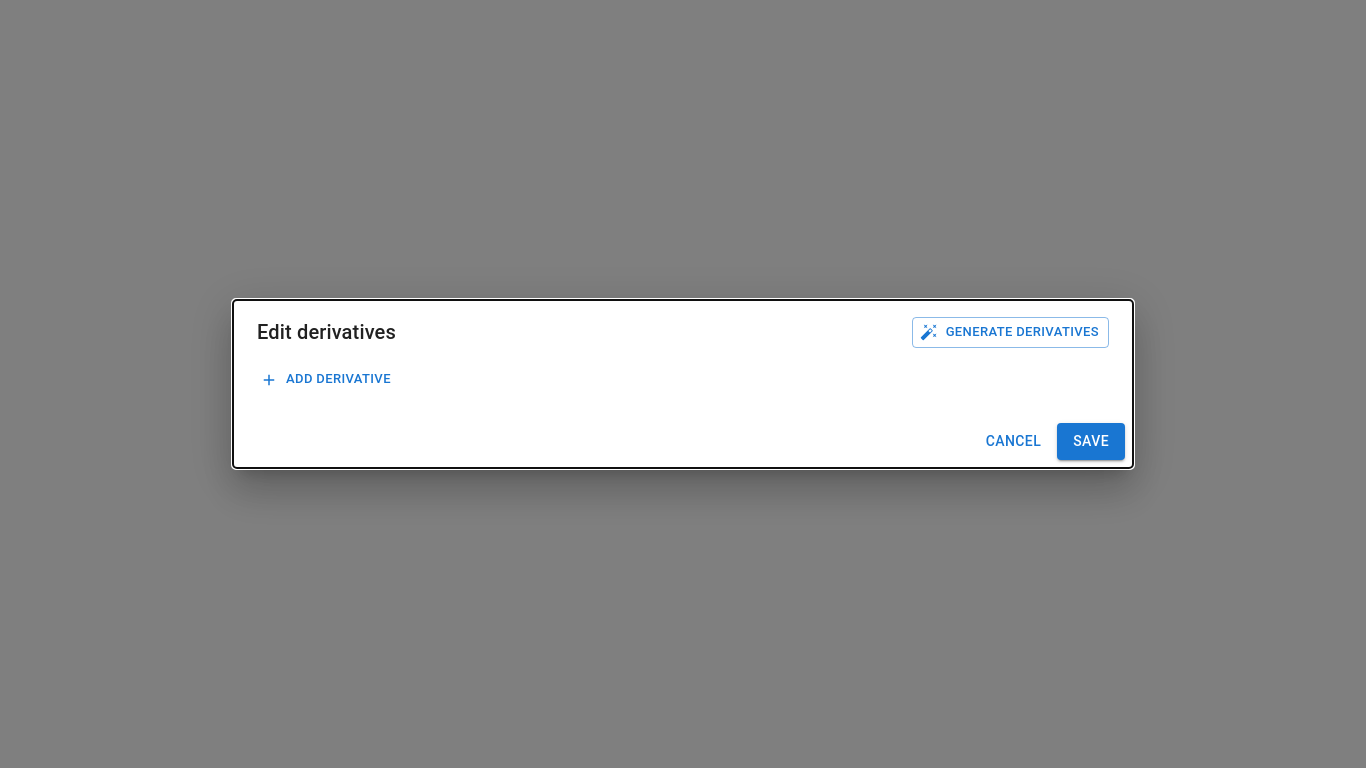
Test: DerivativeEditDialog › renders preview errors
Click the button "Generate derivatives" at (1010, 332), box top-left (912, 317), bottom-right (1109, 348)
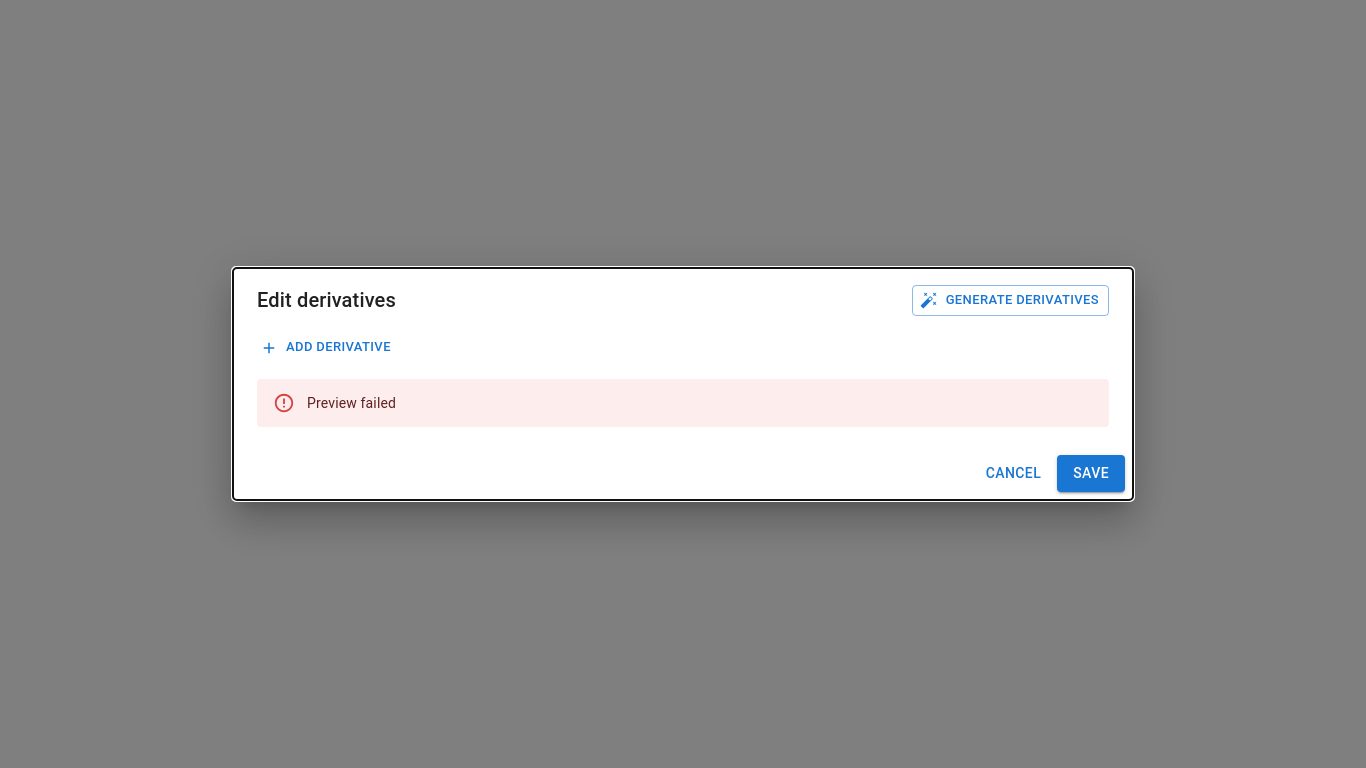
Result: the text "Preview failed" is shown at top-left (307, 395), bottom-right (396, 411)
